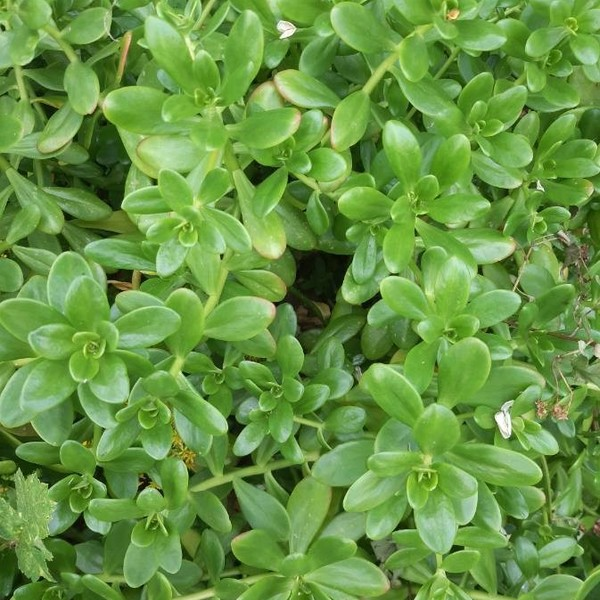obstacle: (75, 70, 541, 577)
